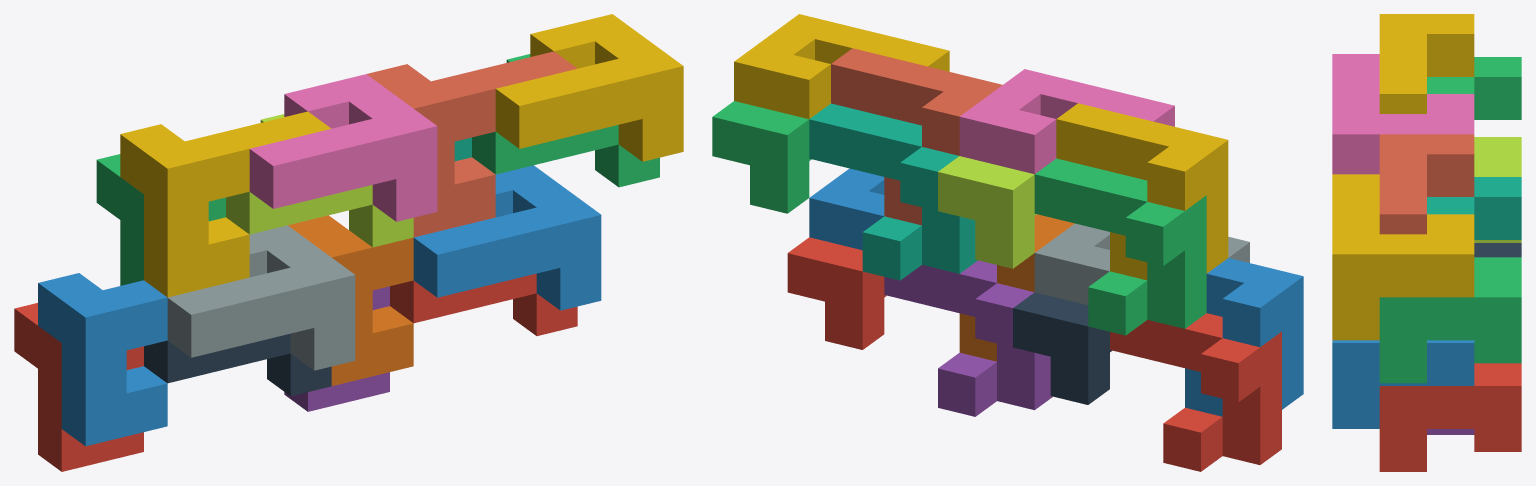
The model's file is tiling.obj.
3 views of the same model, side by side, from view 1: azimuth 30°, elevation 25°; view 2: azimuth 150°, elevation 25°; view 3: azimuth 270°, elevation 25° (orthographic). The views are drawn at different scales.
Parts seen in each view (by area): view 1: copy_2_domain_4, copy_2_domain_8, copy_1_domain_4, copy_2_domain_2, copy_2_domain_6, copy_1_domain_2, copy_1_domain_8, copy_1_domain_6, copy_1_domain_1, copy_2_domain_7, copy_2_domain_3, copy_2_domain_5 (+3 smaller); view 2: copy_1_domain_3, copy_1_domain_1, copy_1_domain_7, copy_1_domain_4, copy_1_domain_5, copy_2_domain_4, copy_2_domain_8, copy_1_domain_8, copy_1_domain_2, copy_2_domain_7, copy_2_domain_3, copy_2_domain_5 (+4 smaller); view 3: copy_2_domain_8, copy_2_domain_7, copy_2_domain_5, copy_2_domain_4, copy_1_domain_8, copy_1_domain_4, copy_2_domain_6, copy_1_domain_7, copy_1_domain_3, copy_2_domain_3, copy_2_domain_1, copy_1_domain_5.
Boxes of the visible parts, x1,y1,x2,y2 form: copy_2_domain_4: (249,74,437,221); copy_2_domain_8: (495,14,683,161); copy_1_domain_4: (120,111,331,297); copy_2_domain_2: (167,225,355,370); copy_2_domain_6: (413,165,601,310); copy_1_domain_2: (38,273,167,446); copy_1_domain_8: (366,51,577,237); copy_1_domain_6: (288,215,413,385); copy_1_domain_1: (14,303,143,471); copy_2_domain_7: (472,54,659,187); copy_2_domain_3: (226,114,413,247); copy_2_domain_5: (390,273,577,335); copy_1_domain_3: (1034,158,1206,335); copy_1_domain_1: (1110,313,1281,471); copy_1_domain_7: (809,103,977,280); copy_1_domain_4: (1056,103,1228,280); copy_1_domain_5: (884,260,1052,416); copy_2_domain_4: (959,69,1174,174); copy_2_domain_8: (734,14,949,118); copy_1_domain_8: (831,48,1002,225); copy_1_domain_2: (1185,258,1303,416); copy_2_domain_7: (712,101,811,213); copy_2_domain_3: (938,156,1036,268); copy_2_domain_5: (787,237,886,349); copy_2_domain_8: (1332,174,1474,340); copy_2_domain_7: (1379,257,1521,383); copy_2_domain_5: (1379,363,1521,471); copy_2_domain_4: (1332,54,1474,174); copy_1_domain_8: (1379,134,1474,234); copy_1_domain_4: (1379,14,1474,113); copy_2_domain_6: (1332,340,1474,428); copy_1_domain_7: (1427,177,1521,239); copy_1_domain_3: (1427,57,1521,119); copy_2_domain_3: (1474,137,1521,242); copy_2_domain_1: (1474,243,1521,257); copy_1_domain_5: (1427,429,1474,434).
Size of the model in its own units: 14 by 7 by 4.
